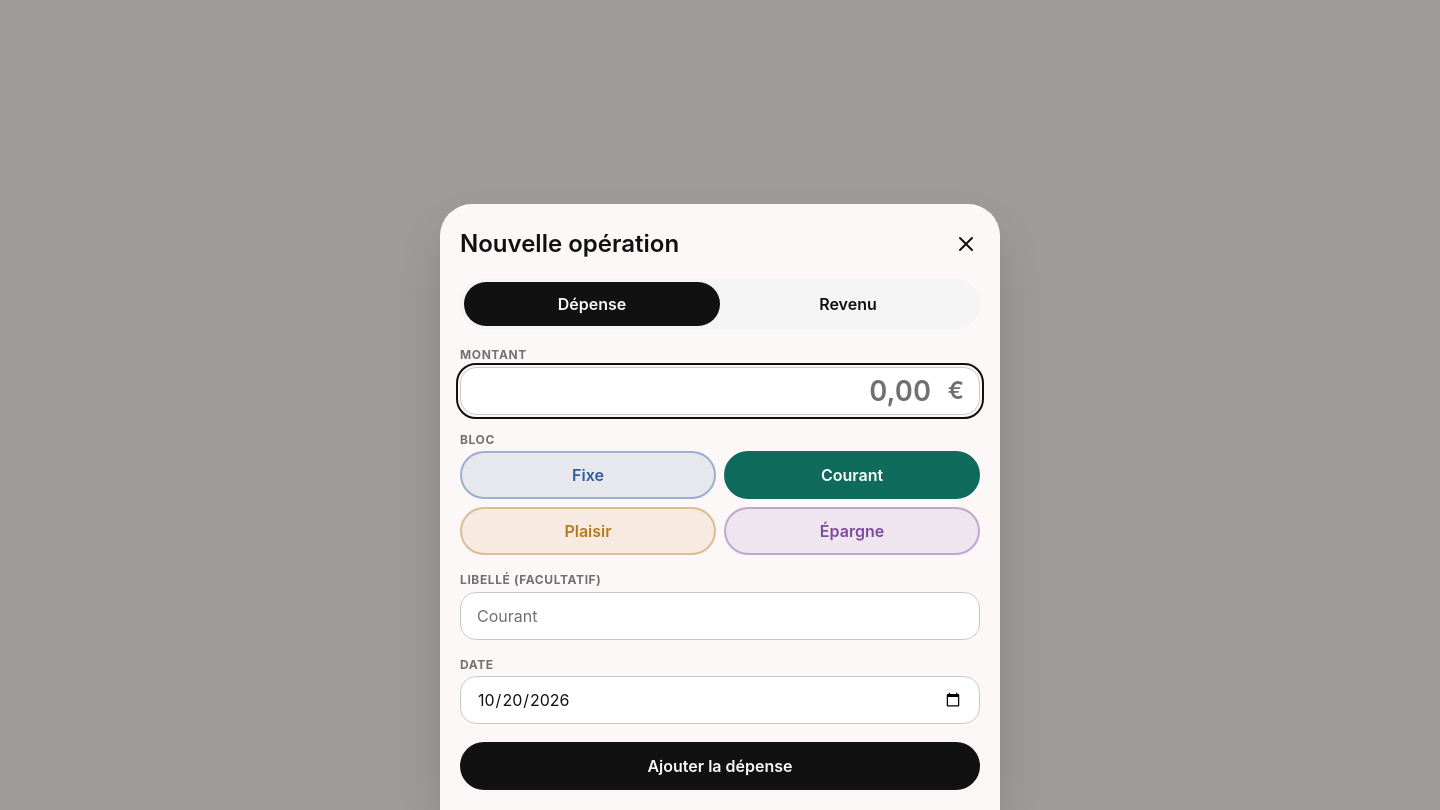
QuickEntrySheet › refuses a malformed amount
Type "12,345" into the field labelled "Montant". click: (720, 391)
box: [460, 367, 980, 415]
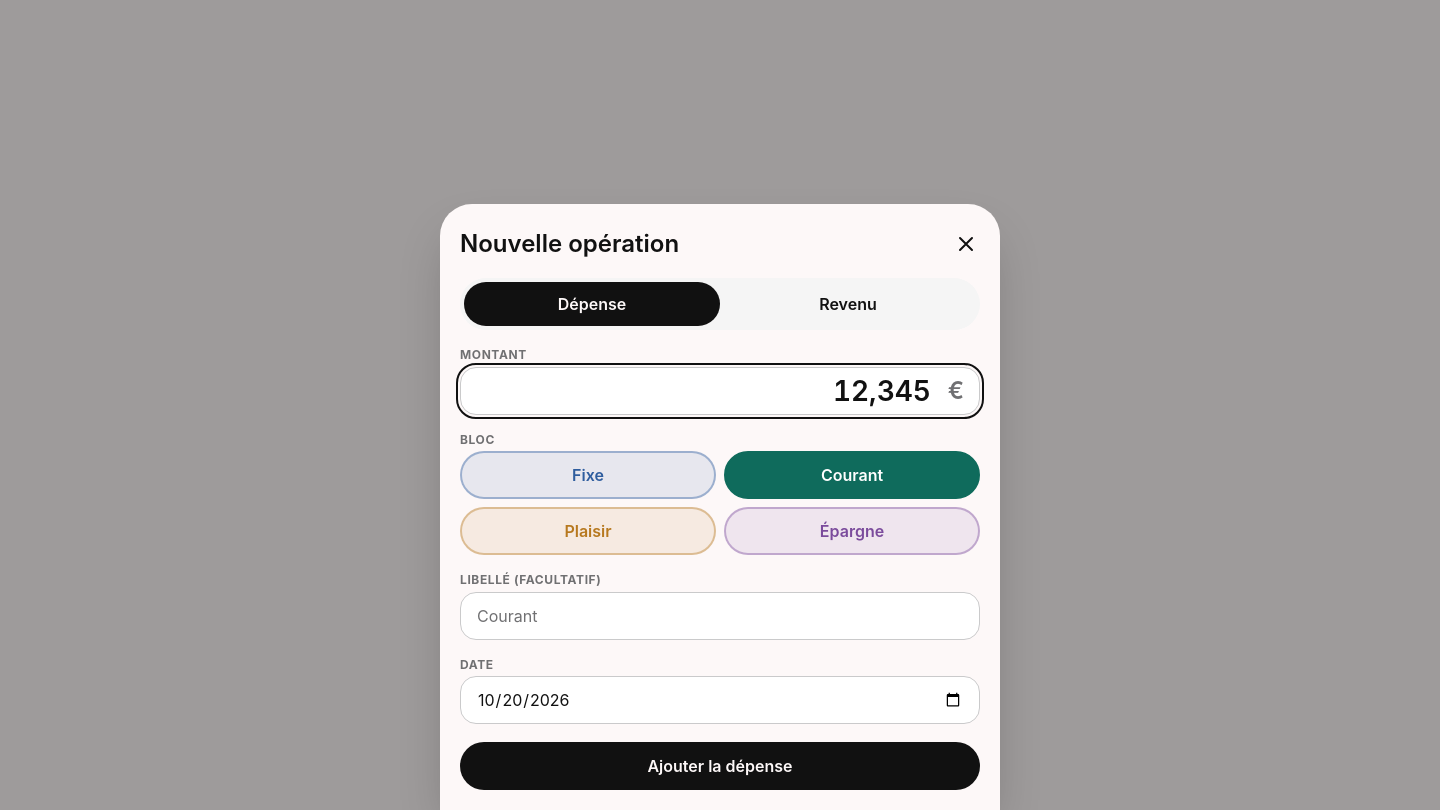
Click the button "Ajouter la dépense". click: (720, 766)
box: [460, 742, 980, 790]
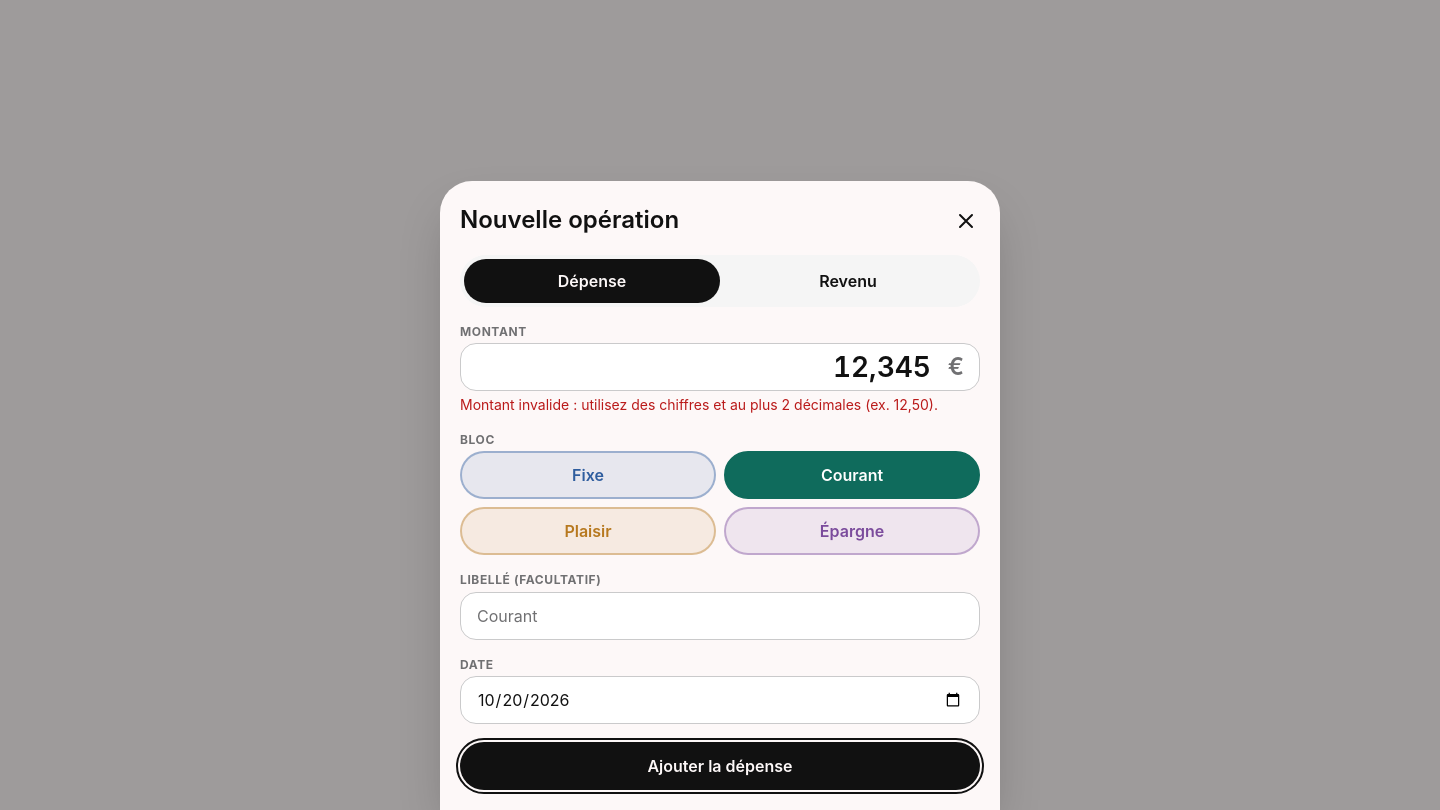
Expected: the message shows "Montant invalide", [460, 396, 938, 413]
